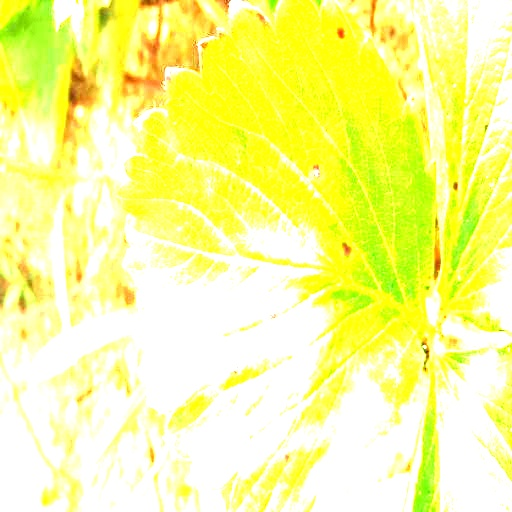Leaf Spot: (117, 0, 438, 511), (409, 0, 511, 332)
